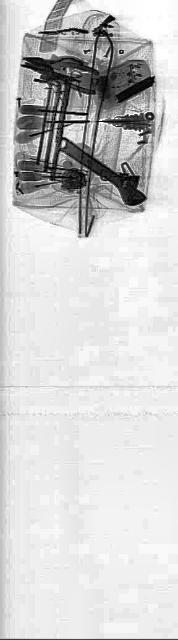Pliers: (21, 44, 82, 86)
Wrench: (57, 123, 146, 217)
